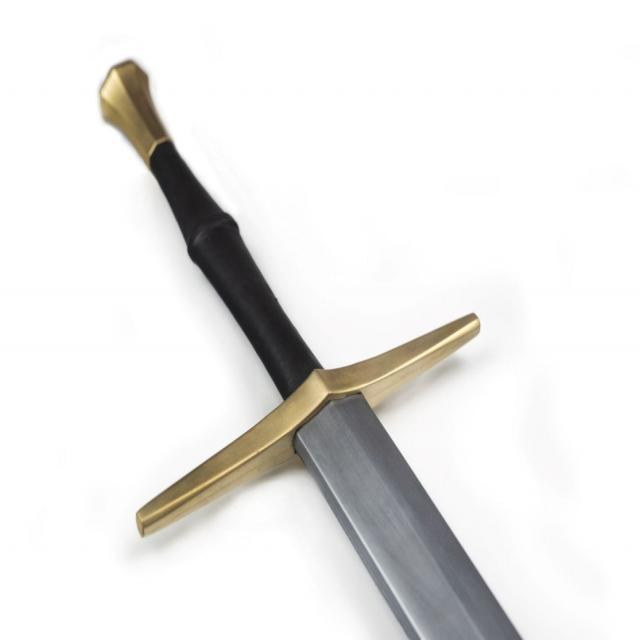sword: (92, 51, 532, 640)
